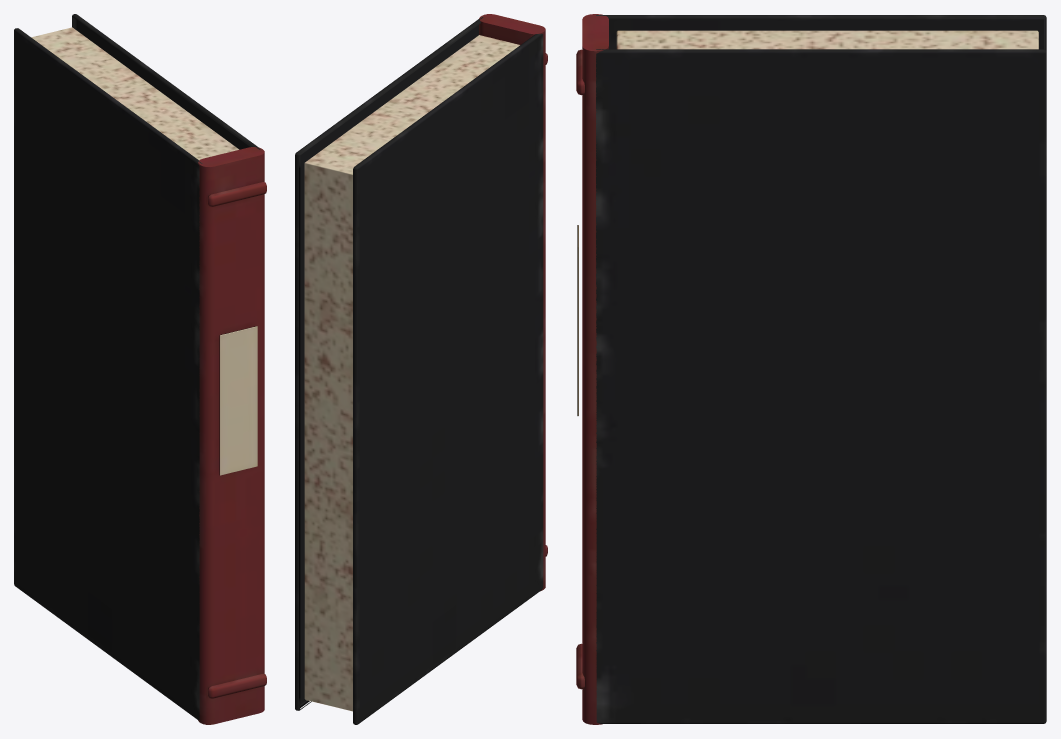
The model's file is ledger-b.glb.
The picture shows the model from 3 angles, left to right: view 1: azimuth 30°, elevation 25°; view 2: azimuth 150°, elevation 25°; view 3: azimuth 270°, elevation 25°; orthographic projection. The views are drawn at different scales.
Visible parts, largest first — view 1: ledger; view 2: ledger; view 3: ledger.
Part boxes in pixels (x1=…): ledger: x1=14, y1=14, x2=266, y2=724; ledger: x1=295, y1=14, x2=547, y2=724; ledger: x1=576, y1=14, x2=1046, y2=724.
Size of the model in its own units: 0.04 by 0.338 by 0.2137.
1 material, 1 textured.
